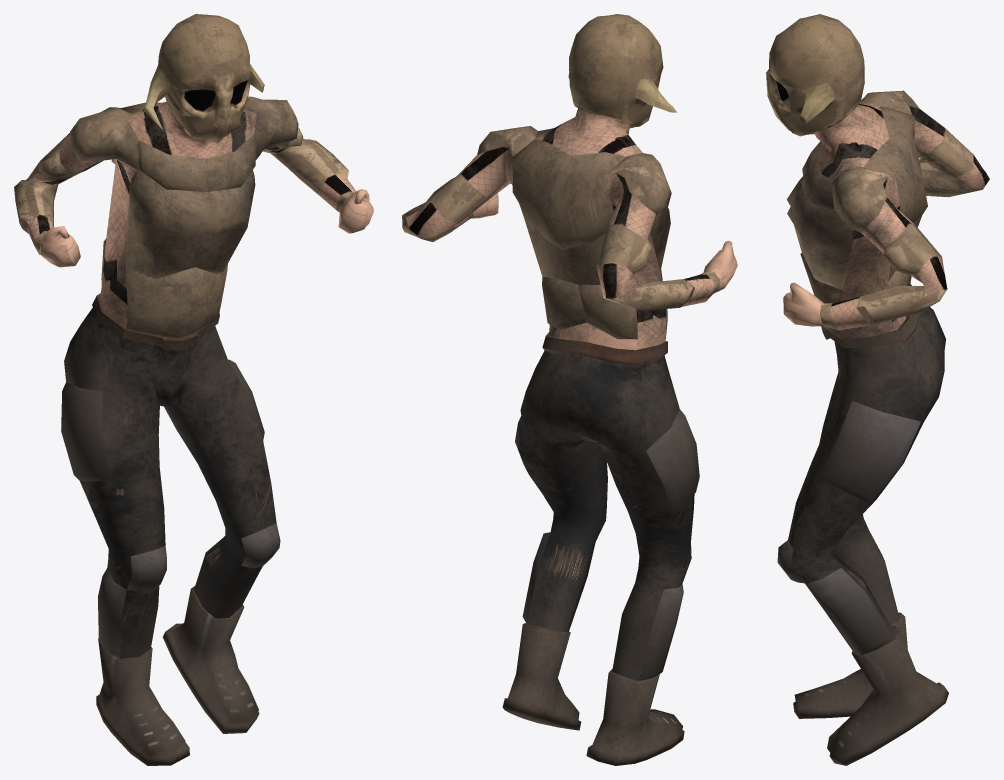
Rendered from Anim_ataque_d2_npc1.0039.obj.
3 views of the same model, side by side, from view 1: azimuth 30°, elevation 25°; view 2: azimuth 150°, elevation 25°; view 3: azimuth 270°, elevation 25° (orthographic). The views are drawn at different scales.
Parts seen in each view (by area): view 1: NPC2; view 2: NPC2; view 3: NPC2.
Part boxes in pixels (x1,y1,x2,y2): NPC2: [14, 14, 373, 765]; NPC2: [402, 14, 737, 765]; NPC2: [766, 14, 989, 765].
Size of the model in its own units: 4.15 by 9.38 by 2.64.
